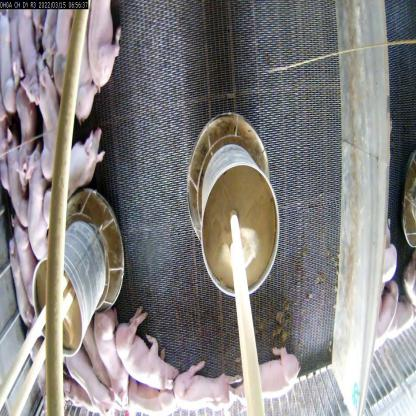Pig: (115, 300, 180, 392), (32, 59, 70, 202), (90, 310, 135, 416), (60, 20, 101, 129), (59, 110, 110, 194), (169, 359, 241, 415), (12, 216, 47, 324), (20, 154, 54, 264), (83, 0, 124, 87), (68, 344, 114, 416), (240, 343, 300, 397), (4, 128, 36, 228), (16, 8, 46, 112), (14, 82, 42, 193), (3, 242, 34, 335), (114, 372, 183, 413)
